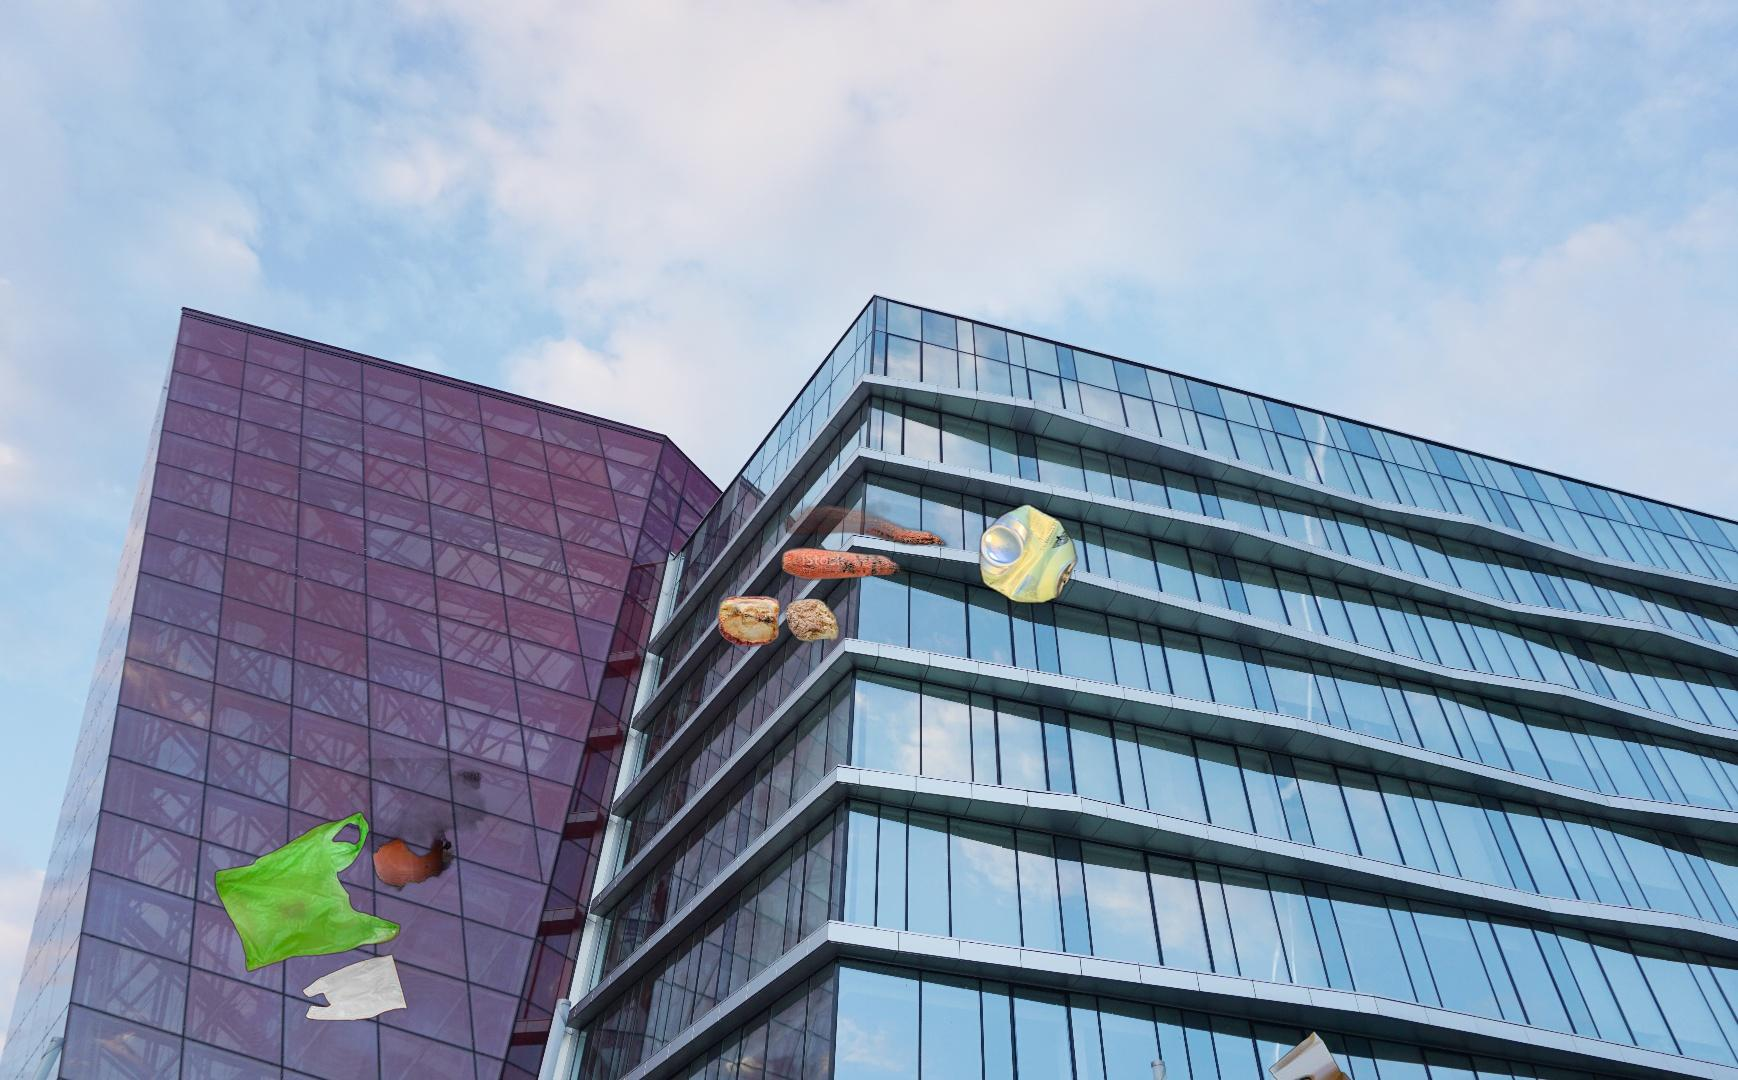biological: (685, 479, 959, 658), (351, 758, 500, 895)
metal-cans: (975, 498, 1081, 610)
paper-bag: (1266, 1028, 1494, 1080)
plastic-bag: (211, 811, 411, 1022)
